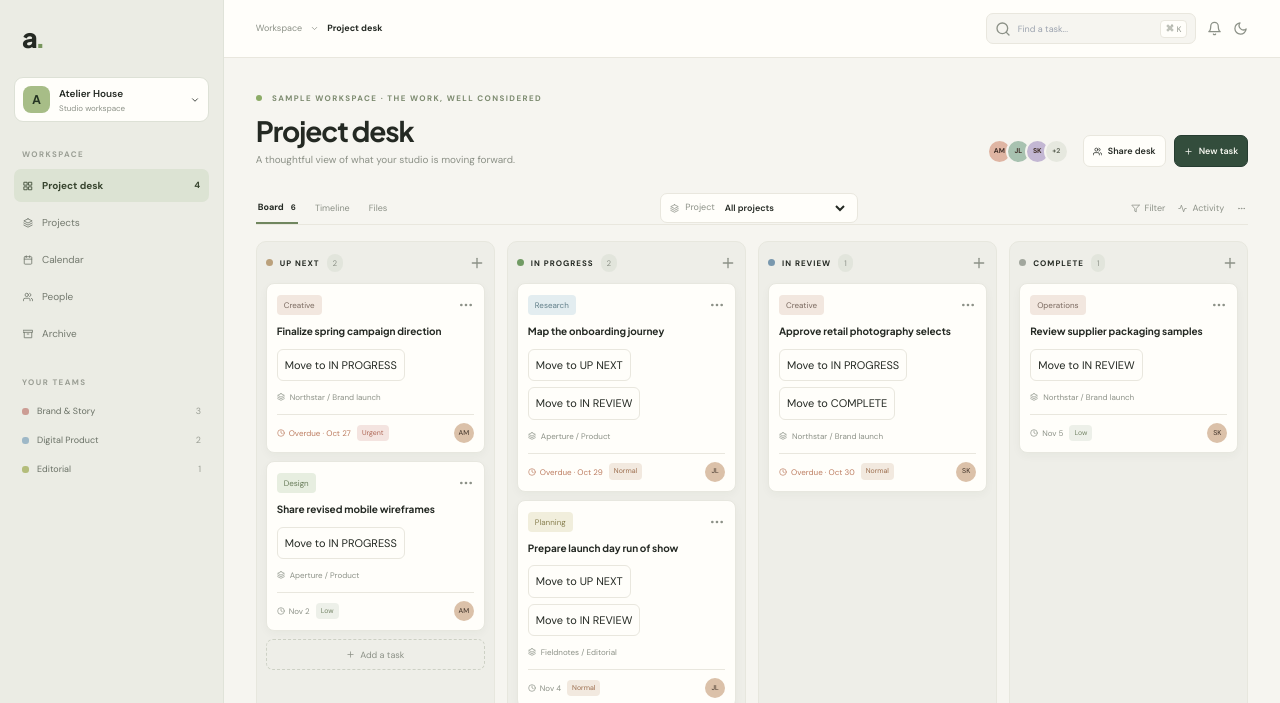
it: Atelier Project Desk › switches project boards without leaking tasks or losing their stage changes
Select "Northstar / Brand launch" in the dropdown named "Project board": (784, 208) [721,201,848,215]
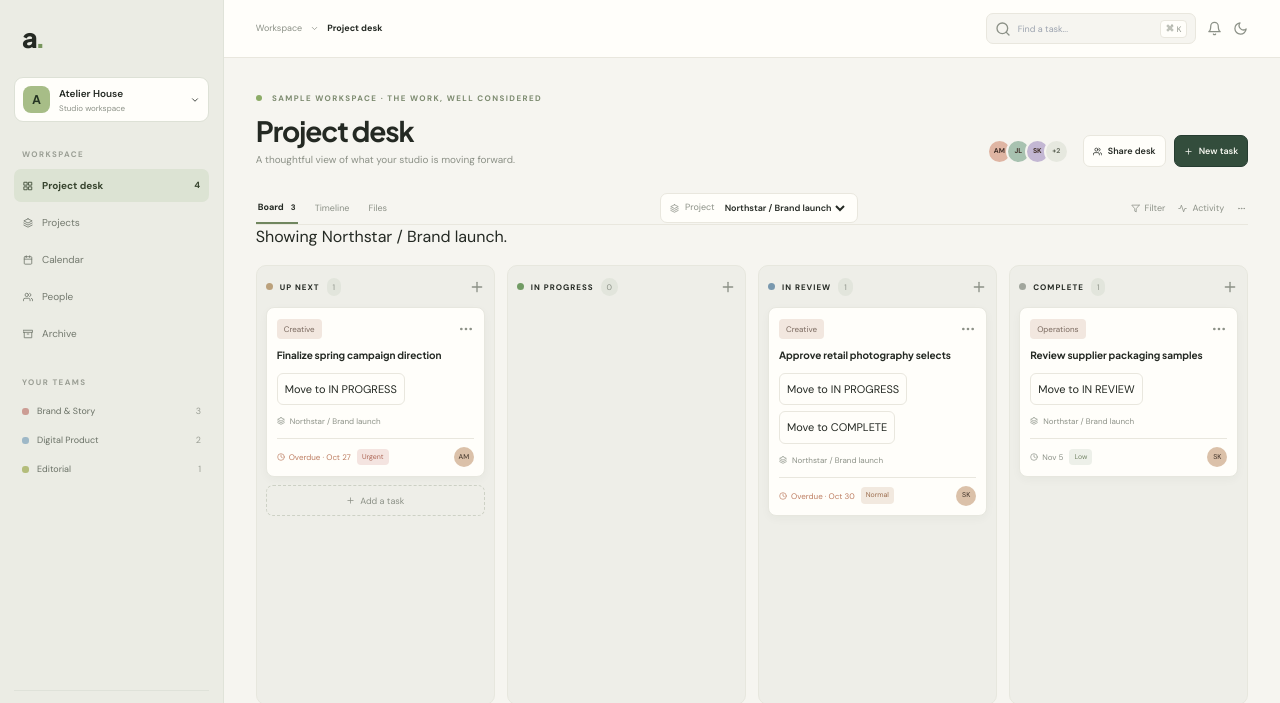
Check: the button "Finalize spring campaign direction" is shown, box [277,348,442,362]
Check: the button "Map the onboarding journey" is gone
Click the button with aria-label "Move Finalize spring campaign direction to IN PROGRESS": (341, 389) [277,372,405,405]
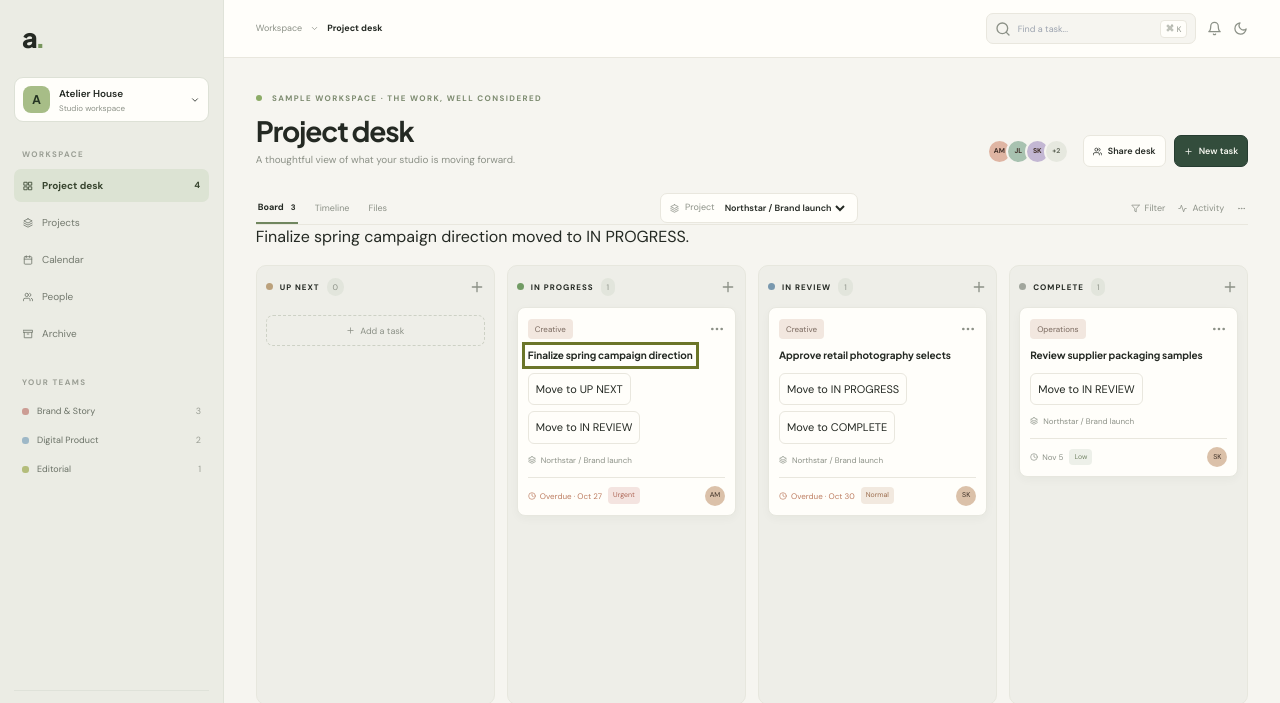
Select "Aperture / Product" in the dropdown named "Project board": (784, 208) [721,201,848,215]
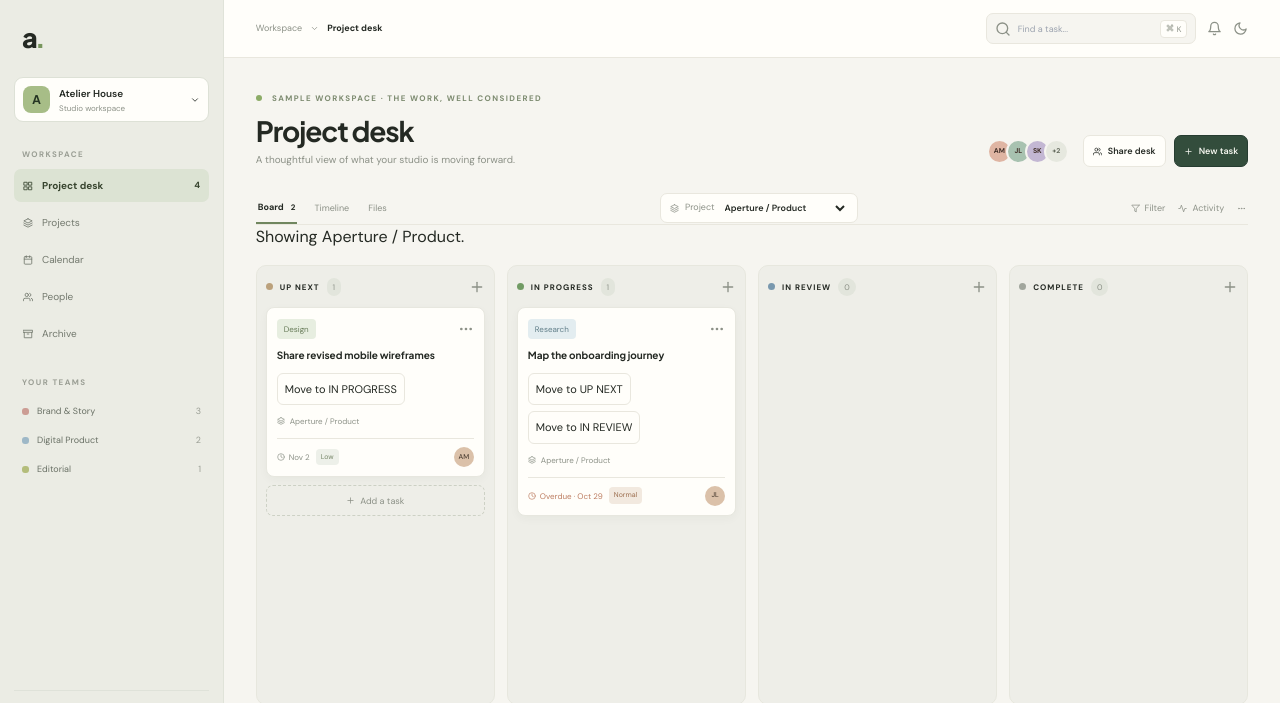
Check: the button "Map the onboarding journey" is shown, box [528,348,664,362]
Check: the message "Finalize spring campaign direction" is gone
Select "Northstar / Brand launch" in the dropdown named "Project board": (784, 208) [720,201,848,215]
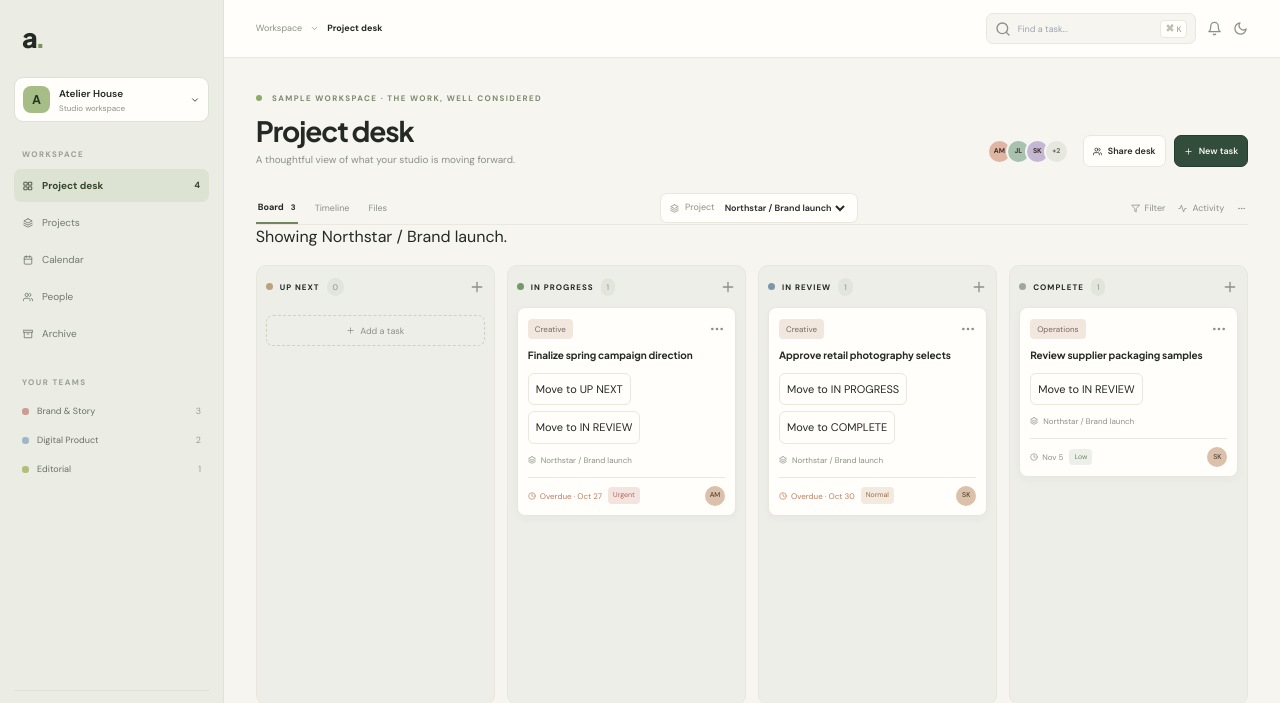
Check: the button "Finalize spring campaign direction" is shown, box [528,348,693,362]
Check: the message reads "Showing Northstar / Brand launch.", box [256,226,507,247]
